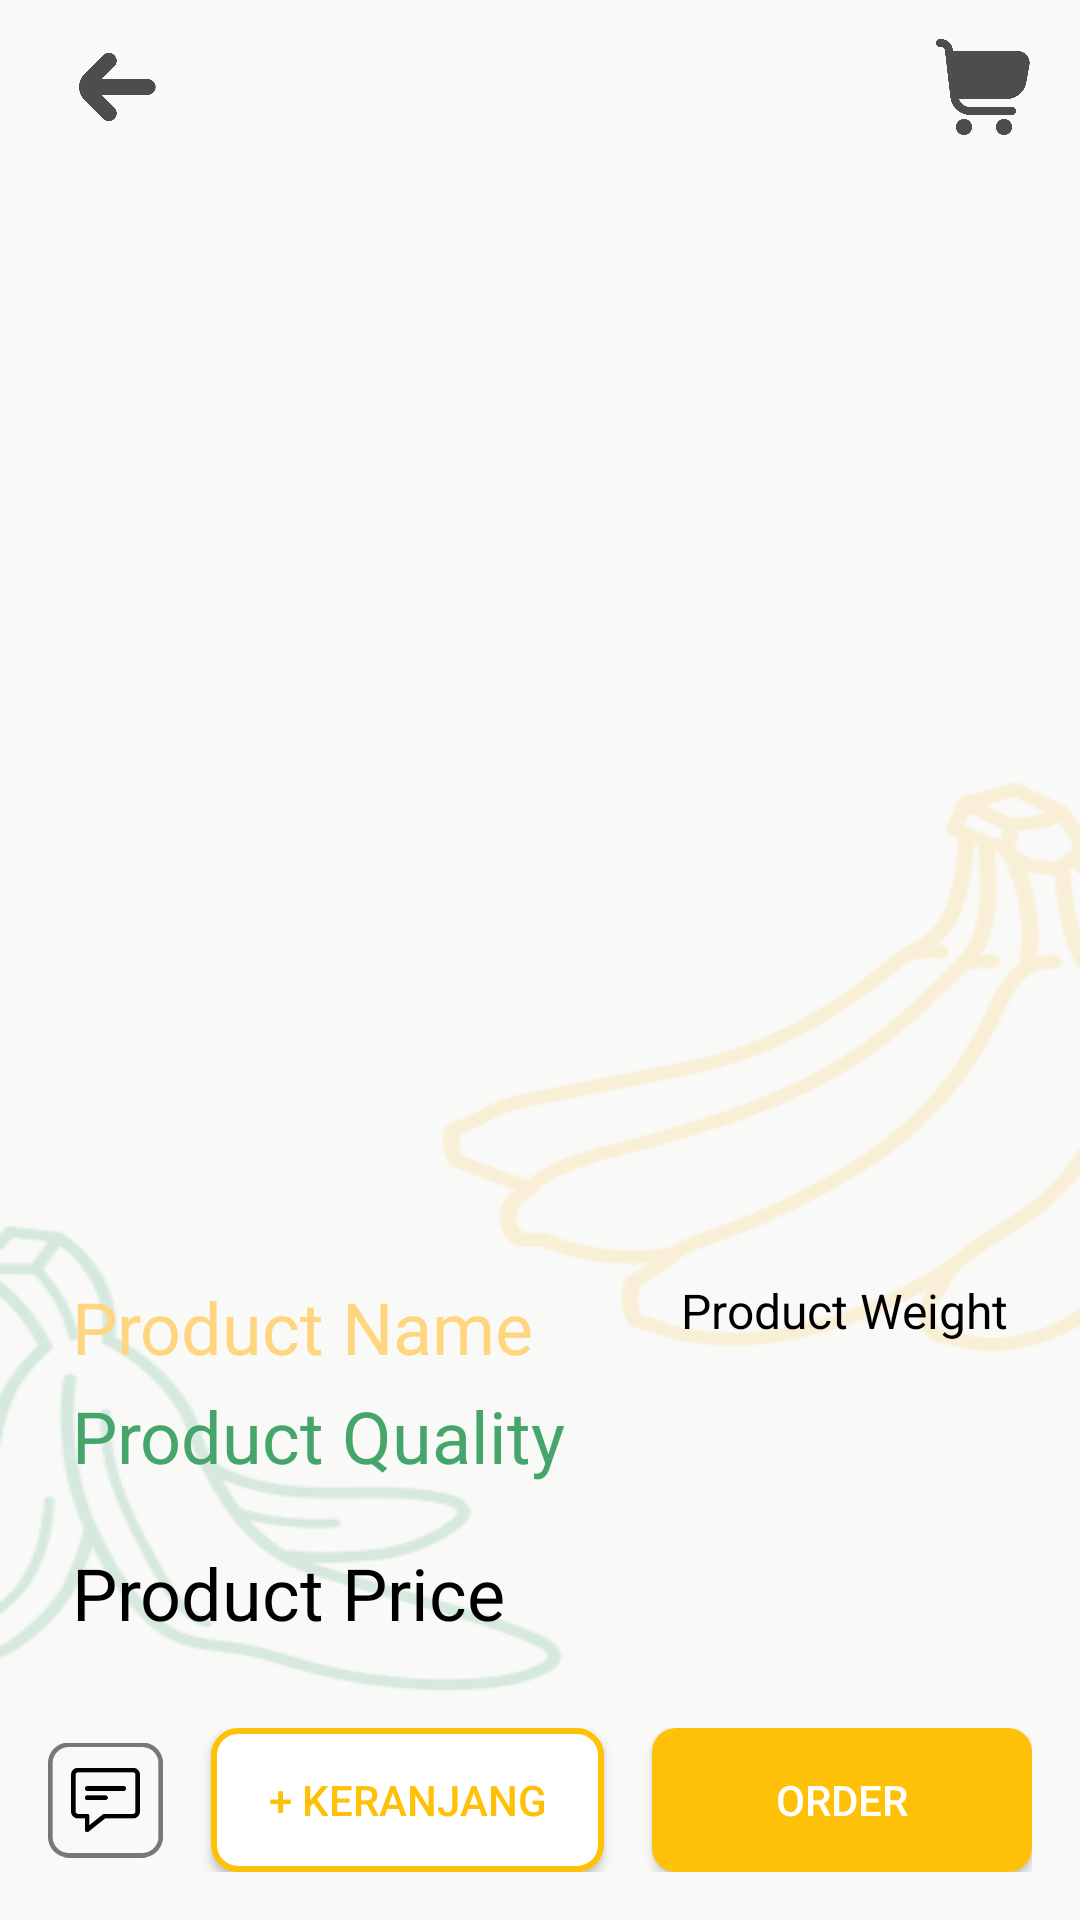

Where icons sit on this 1080 x 1920 app screen, as [x1,y1,x2,y2]:
back: [79,53,156,121]
cart: [936,39,1030,135]
chat: [48,1743,163,1858]
